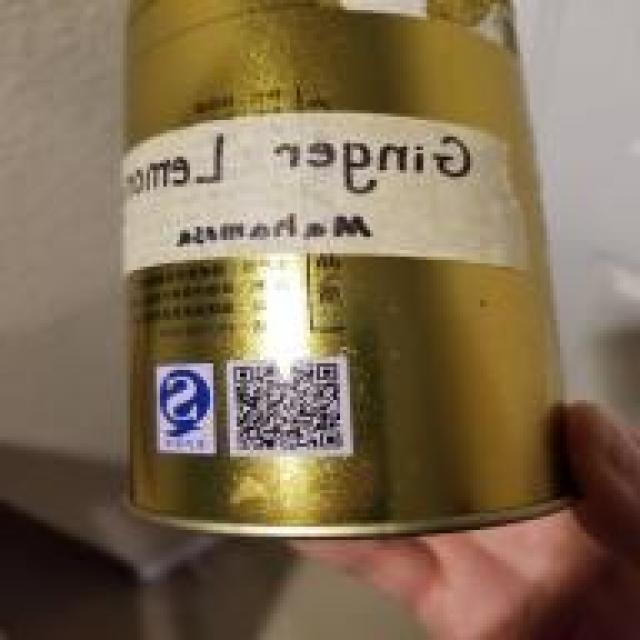QR_CODE: (218, 353, 350, 467)
